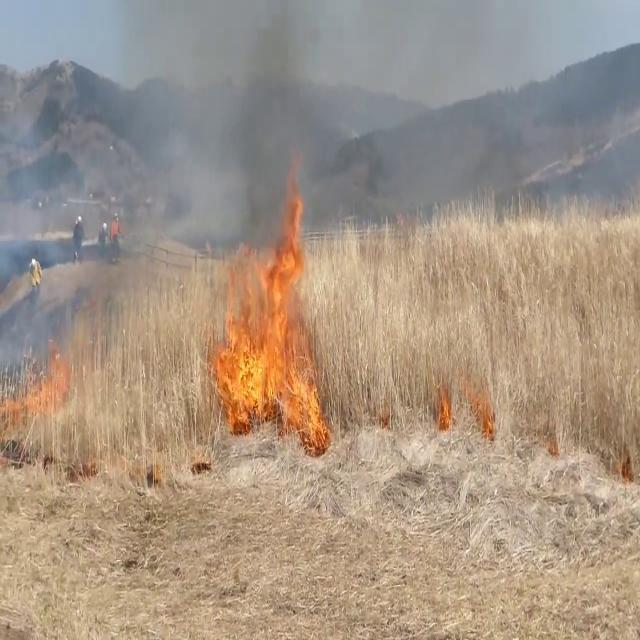Fire: (212, 168, 326, 436)
Smoke: (126, 0, 360, 288)
